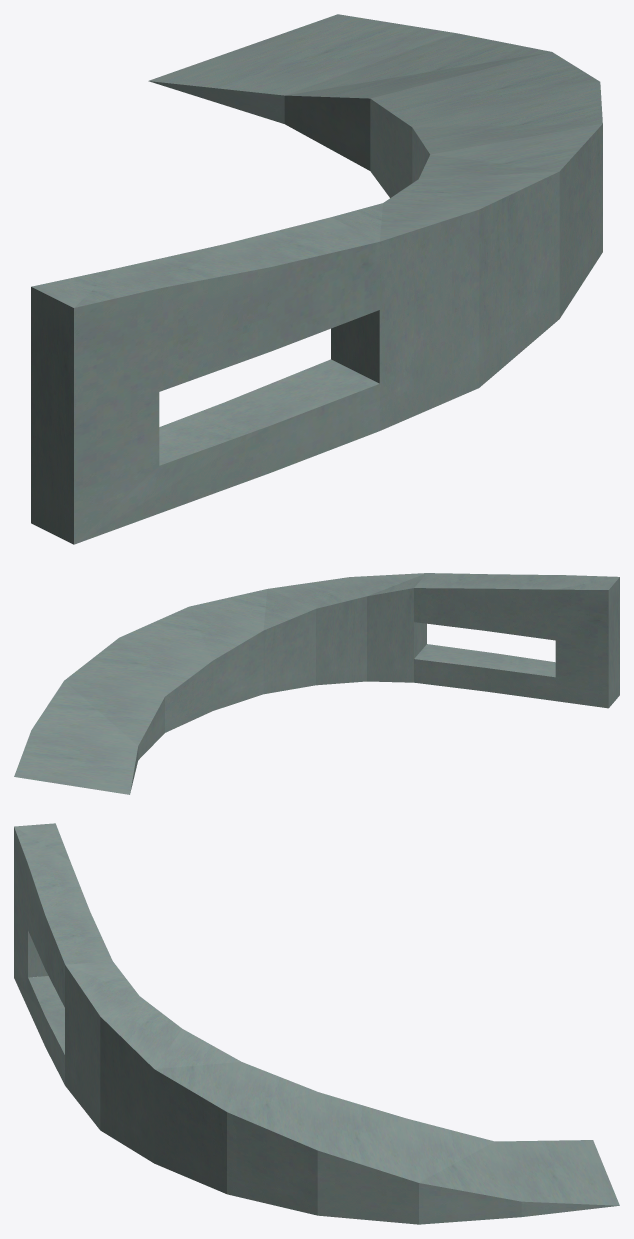
The model's file is artcurve_law.obj.
The picture shows the model from 3 angles, top to bottom: view 1: azimuth 30°, elevation 25°; view 2: azimuth 150°, elevation 25°; view 3: azimuth 270°, elevation 25°; orthographic projection. The views are drawn at different scales.
Parts seen in each view (by area): view 1: artcurve_law; view 2: artcurve_law; view 3: artcurve_law.
Boxes of the visible parts, bbox=[...] form: artcurve_law: bbox=[31, 14, 602, 544]; artcurve_law: bbox=[14, 573, 619, 794]; artcurve_law: bbox=[14, 823, 619, 1224].
Size of the model in its own units: 18.96 by 5.51 by 19.33.
Materials: 1 (1 with a texture image).
